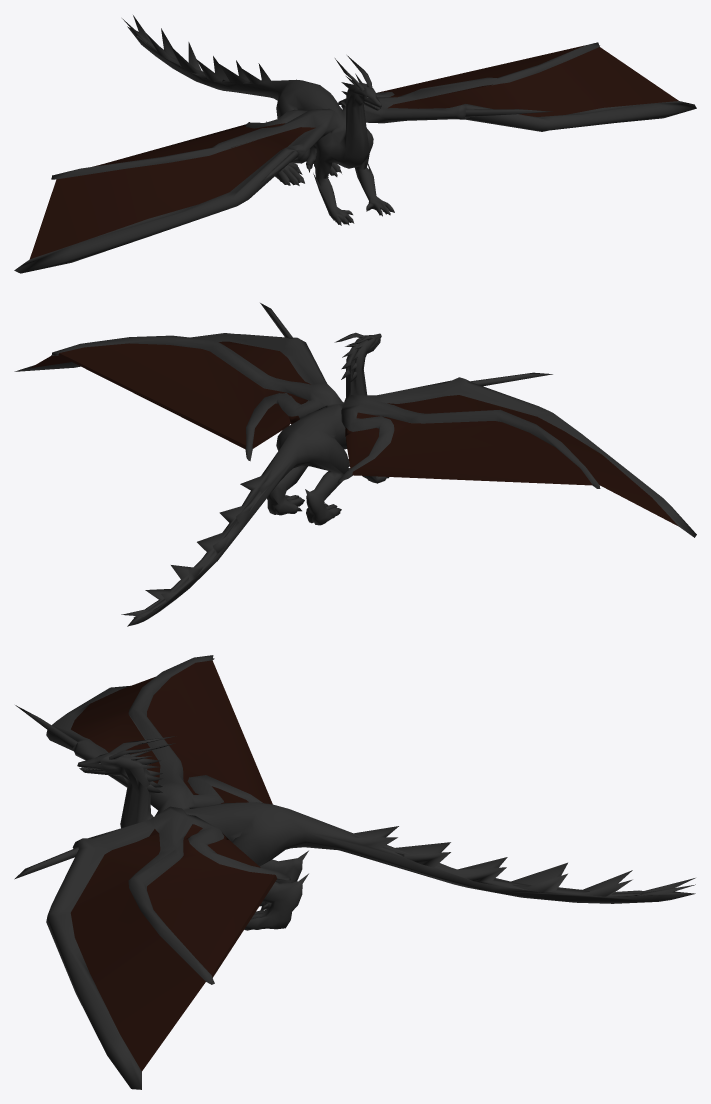
File: dragon.obj
The picture shows the model from 3 angles, top to bottom: view 1: azimuth 30°, elevation 25°; view 2: azimuth 150°, elevation 25°; view 3: azimuth 270°, elevation 25°; orthographic projection. The views are drawn at different scales.
Visible parts, largest first — view 1: Cube; view 2: Cube; view 3: Cube.
Boxes of the visible parts, left/top/right/bottom form: Cube: left=14, top=15, right=696, bottom=273; Cube: left=14, top=303, right=696, bottom=626; Cube: left=14, top=655, right=695, bottom=1089.
Size of the model in its own units: 151 by 30.77 by 108.
